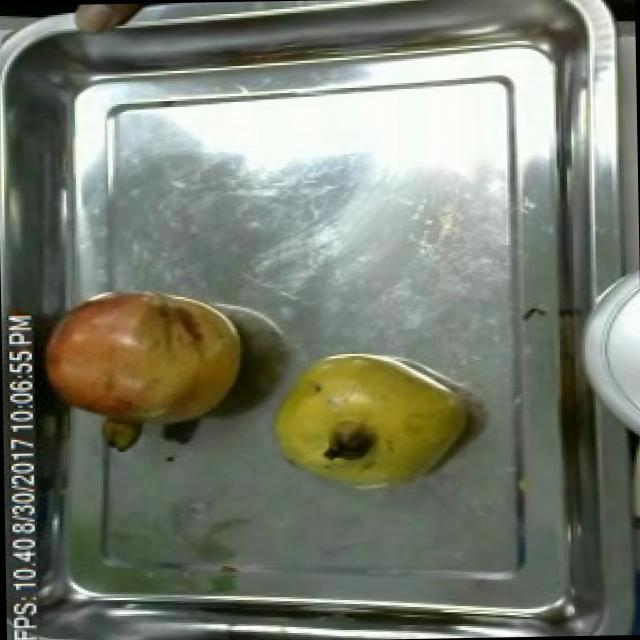fruit: (258, 341, 475, 499), (36, 283, 250, 437), (61, 2, 161, 36)
